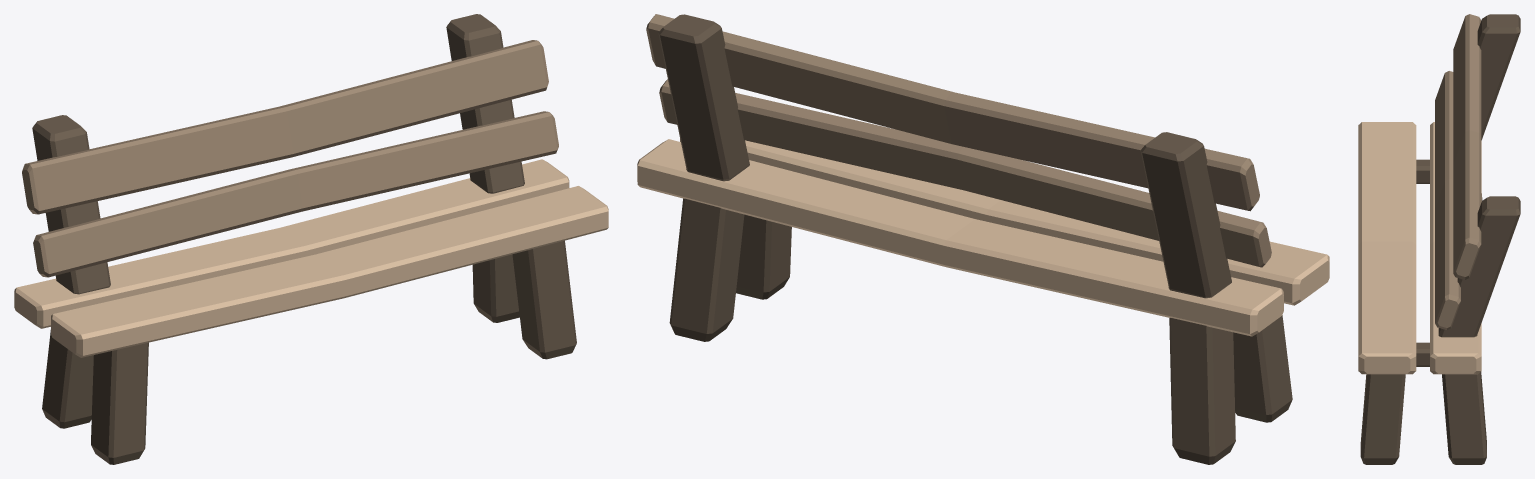
Rendered from wooden-bench-02e2c8.glb.
3 renders of one model, left to right at view 1: azimuth 30°, elevation 25°; view 2: azimuth 150°, elevation 25°; view 3: azimuth 270°, elevation 25°, orthographic. The views are drawn at different scales.
Parts seen in each view (by area): view 1: bench; view 2: bench; view 3: bench.
Boxes of the visible parts, x1,y1,x2,y2 form: bench: (14, 14, 608, 464); bench: (637, 14, 1329, 464); bench: (1358, 14, 1520, 464).
Bounding box in the file's own units: 1.8 × 0.9 × 0.5265.
